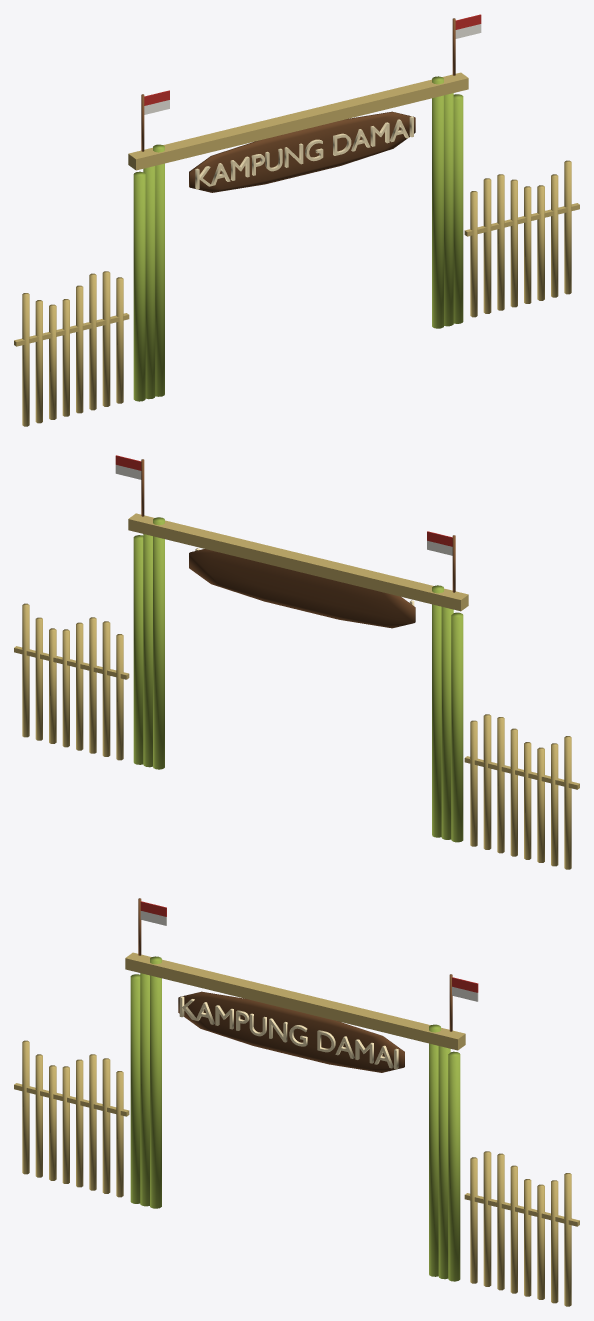
Rendered from prop_gapura.glb.
The picture shows the model from 3 angles, top to bottom: view 1: azimuth 30°, elevation 25°; view 2: azimuth 150°, elevation 25°; view 3: azimuth 330°, elevation 25°; orthographic projection.
Parts seen in each view (by area): view 1: gapura; view 2: gapura; view 3: gapura.
Part boxes in pixels (box(x1,y1,x2,y2)): gapura: box(14, 14, 579, 426); gapura: box(14, 455, 579, 869); gapura: box(14, 898, 579, 1306).
Bounding box in the file's own units: 10.5 × 5.4 × 0.355.
